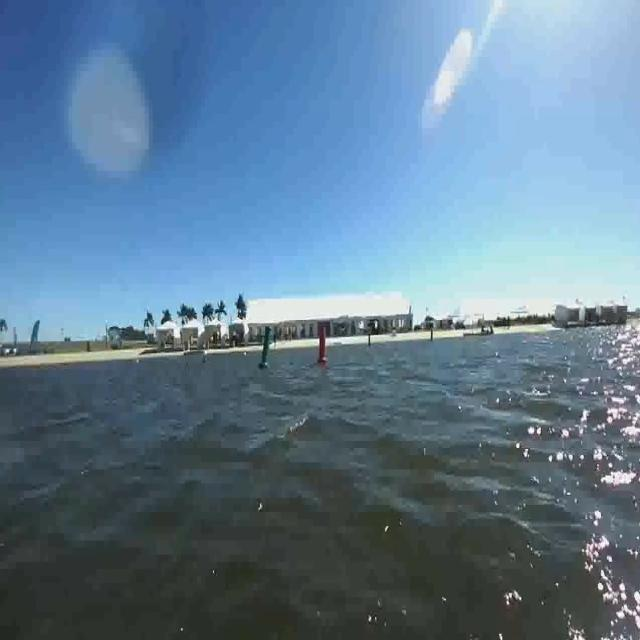green-column-buoy: (256, 316, 274, 378)
red-column-buoy: (311, 317, 334, 367)
